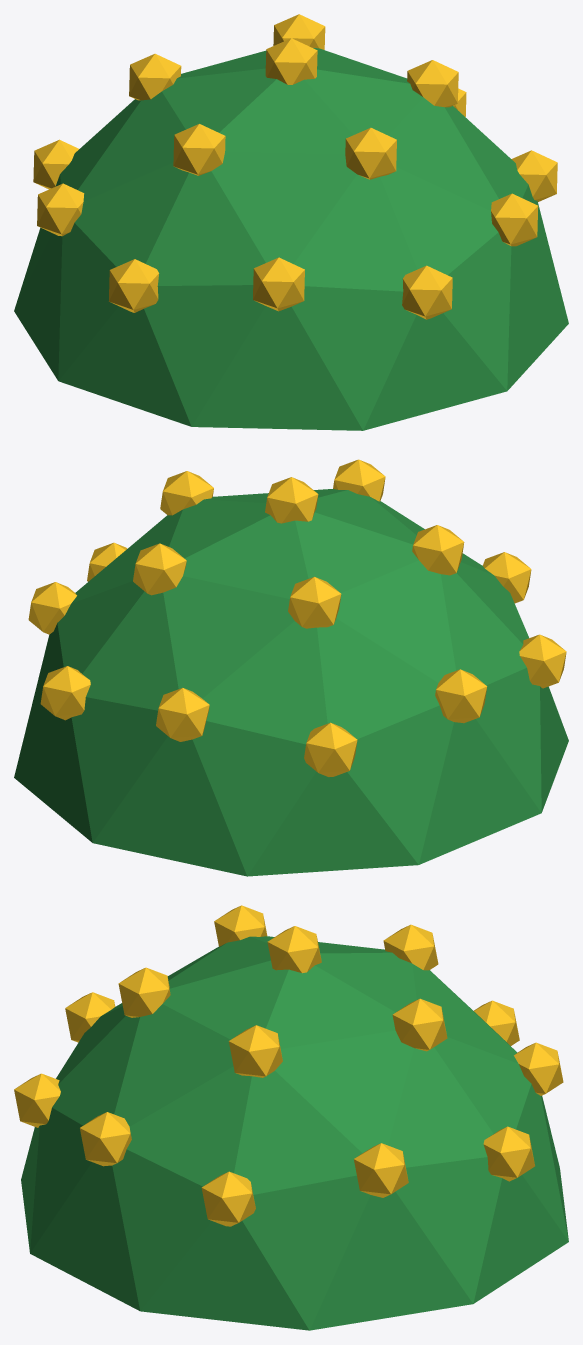
The model's file is BushFruitsYellow.fbx.
3 renders of one model, top to bottom at view 1: azimuth 30°, elevation 25°; view 2: azimuth 150°, elevation 25°; view 3: azimuth 270°, elevation 25°, orthographic. The views are drawn at different scales.
Visible parts, largest first — view 1: BushFruitsYellow; view 2: BushFruitsYellow; view 3: BushFruitsYellow.
Part boxes in pixels (x1,y1,x2,y2): BushFruitsYellow: (14, 14, 568, 430); BushFruitsYellow: (14, 459, 568, 876); BushFruitsYellow: (14, 905, 568, 1330).
Bounding box in the file's own units: 605 × 336 × 592.
